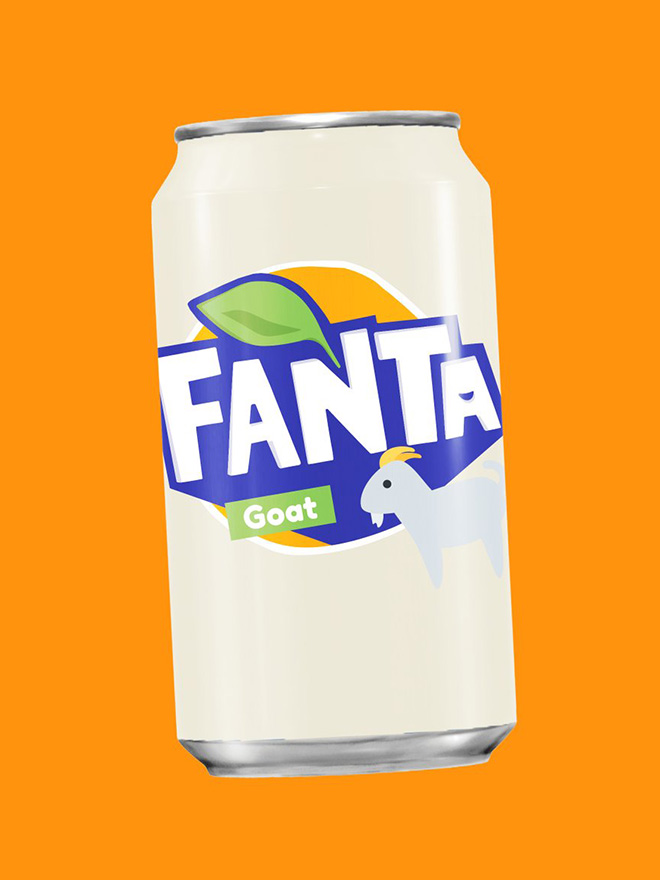Fanta: (95, 93, 591, 810)
